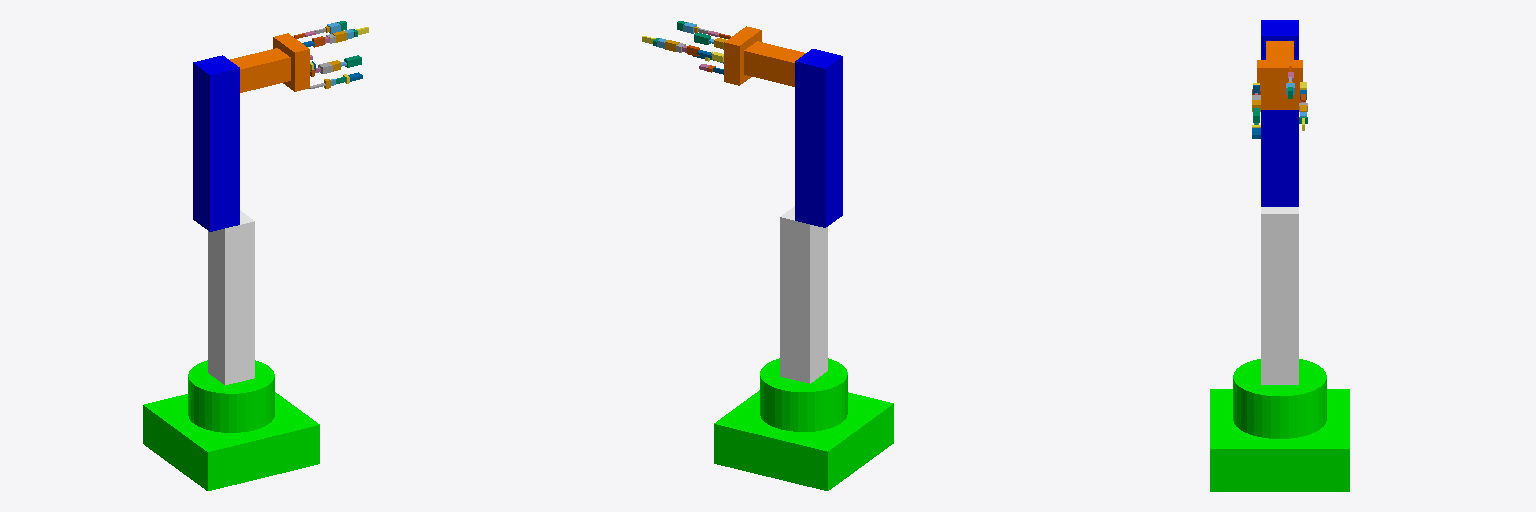
--- What the picture shows (computed from the rendered views, not written in the file) ---
The picture shows the robot from 3 angles, left to right: view 1: azimuth 30°, elevation 25°; view 2: azimuth 150°, elevation 25°; view 3: azimuth 270°, elevation 25°; orthographic projection.
Robot: robot — 37 links, 36 joints (33 revolute, 1 continuous, 2 fixed); root link base_link; default pose: all joints at 0.
Links seen in each view (by area): view 1: base_link, arm_link, support_link, wrist_link, palm_link; view 2: base_link, arm_link, support_link, wrist_link, palm_link; view 3: base_link, support_link, arm_link, palm_link, wrist_link.
Boxes of the visible links, bbox=[...] form: base_link: bbox=[143, 360, 319, 490]; arm_link: bbox=[193, 55, 239, 231]; support_link: bbox=[208, 210, 254, 384]; wrist_link: bbox=[230, 48, 290, 92]; palm_link: bbox=[273, 33, 309, 91]; base_link: bbox=[714, 358, 893, 490]; arm_link: bbox=[795, 49, 842, 227]; support_link: bbox=[780, 206, 827, 383]; wrist_link: bbox=[744, 41, 805, 86]; palm_link: bbox=[724, 26, 761, 85]; base_link: bbox=[1210, 359, 1349, 491]; support_link: bbox=[1261, 207, 1298, 384]; arm_link: bbox=[1261, 20, 1298, 206]; palm_link: bbox=[1257, 60, 1302, 109]; wrist_link: bbox=[1266, 41, 1293, 59].
Bounding box of the posed robot: 1.36 × 0.75 × 2.55 m (x, y, z).
Geometry: primitives only (box / cylinder / sphere), no mesh files.

robot.urdf — robot:
<?xml version='1.0' encoding='utf-8'?>
<robot name="robot">
  <link name="base_link">
    <visual>
      <origin xyz="0 0 0.125" rpy="0 0 0" />
      <geometry>
        <box size="0.75 0.75 0.25" />
      </geometry>
      <material name="green" />
    </visual>
    <visual>
      <origin xyz="0 0 0.375" rpy="0 0 0" />
      <geometry>
        <cylinder length="0.25" radius="0.25" />
      </geometry>
      <material name="green">
        <color rgba="0 1 0 1" />
      </material>
    </visual>
    <collision>
      <geometry>
        <box size="0.75 0.75 0.5" />
      </geometry>
    </collision>
    <inertial>
      <mass value="0.5" />
      <inertia ixx="0.034" ixy="0.0" ixz="0.0" iyy="0.034" iyz="0.0" izz="0.034" />
    </inertial>
  </link>
  <link name="support_link">
    <visual>
      <origin xyz="0 0 0.5" rpy="0 0 0" />
      <geometry>
        <box size="0.2 0.2 1" />
      </geometry>
      <material name="white">
        <color rgba="1 1 1 1" />
      </material>
    </visual>
    <collision>
      <geometry>
        <box size="0.2 0.2 1" />
      </geometry>
    </collision>
    <inertial>
      <mass value="0.1" />
      <inertia ixx="0.01" ixy="0.0" ixz="0.0" iyy="0.01" iyz="0.0" izz="0.01" />
    </inertial>
  </link>
  <joint name="support_joint" type="continuous">
    <origin xyz="0 0 0.5" rpy="0 0 0" />
    <parent link="base_link" />
    <child link="support_link" />
    <axis xyz="0 0 1" />
  </joint>
  <link name="arm_link">
    <visual>
      <origin xyz="0 0 0.5" rpy="0 0 0" />
      <geometry>
        <box size="0.2 0.2 1" />
      </geometry>
      <material name="blue">
        <color rgba="0 0 1 1" />
      </material>
    </visual>
    <collision>
      <geometry>
        <box size="0.2 0.2 1" />
      </geometry>
    </collision>
    <inertial>
      <mass value="0.1" />
      <inertia ixx="0.01" ixy="0.0" ixz="0.0" iyy="0.01" iyz="0.0" izz="0.01" />
    </inertial>
  </link>
  <joint name="arm_joint" type="revolute">
    <origin xyz="-0.1 0 1" rpy="0 0 0" />
    <parent link="support_link" />
    <child link="arm_link" />
    <axis xyz="0 1 0" />
    <limit lower="-3.14" upper="3.14" effort="1.0" velocity="1.0" />
  </joint>
  <link name="wrist_link">
    <visual>
      <origin xyz="0 0 0.25" rpy="0 0 0" />
      <geometry>
        <box size="0.15 0.15 0.5" />
      </geometry>
      <material name="orange">
        <color rgba="1 0.5 0 1" />
      </material>
    </visual>
    <collision>
      <geometry>
        <box size="0.15 0.15 0.5" />
      </geometry>
    </collision>
    <inertial>
      <mass value="0.1" />
      <inertia ixx="0.01" ixy="0.0" ixz="0.0" iyy="0.01" iyz="0.0" izz="0.01" />
    </inertial>
  </link>
  <joint name="wrist_joint" type="fixed">
    <origin xyz="0 0 0.9" rpy="0 1.571 0" />
    <parent link="arm_link" />
    <child link="wrist_link" />
  </joint>
  <link name="palm_link">
    <visual>
      <origin xyz="0 0 0.05" rpy="0 0 0" />
      <geometry>
        <box size="0.25 0.25 0.1" />
      </geometry>
      <material name="orange" />
    </visual>
    <collision>
      <geometry>
        <box size="0.25 0.25 0.1" />
      </geometry>
    </collision>
    <inertial>
      <mass value="0.1" />
      <inertia ixx="0.01" ixy="0.0" ixz="0.0" iyy="0.01" iyz="0.0" izz="0.01" />
    </inertial>
  </link>
  <joint name="palm_joint" type="fixed">
    <origin xyz="0 0 0.45" rpy="0 0 0" />
    <parent link="wrist_link" />
    <child link="palm_link" />
  </joint>
  <link name="finger_link_0_0">
    <visual>
      <origin xyz="0 0 0.012" rpy="0 0 0" />
      <geometry>
        <box size="0.042 0.047 0.024" />
      </geometry>
    </visual>
    <collision>
      <geometry>
        <box size="0.042 0.047 0.024" />
      </geometry>
    </collision>
    <inertial>
      <mass value="0.014" />
      <inertia ixx="0.0" iyy="0.0" izz="0.0" ixy="0" ixz="0" iyz="0" />
    </inertial>
  </link>
  <joint name="finger_joint_palm_link_to_finger_link_0_0" type="revolute">
    <origin xyz="0.022 -0.125 0.1" rpy="0 0 0" />
    <parent link="palm_link" />
    <child link="finger_link_0_0" />
    <axis xyz="1.0 0.0 0.0" />
    <limit lower="-3.142" upper="3.142" effort="10" velocity="10" />
  </joint>
  <link name="finger_link_0_1">
    <visual>
      <origin xyz="0 0 0.024" rpy="0 0 0" />
      <geometry>
        <box size="0.024 0.015 0.048" />
      </geometry>
    </visual>
    <collision>
      <geometry>
        <box size="0.024 0.015 0.048" />
      </geometry>
    </collision>
    <inertial>
      <mass value="0.005" />
      <inertia ixx="0.0" iyy="0.0" izz="0.0" ixy="0" ixz="0" iyz="0" />
    </inertial>
  </link>
  <joint name="finger_joint_finger_link_0_0_to_finger_link_0_1" type="revolute">
    <origin xyz="0.0 0.0 0.024" rpy="0 0 0" />
    <parent link="finger_link_0_0" />
    <child link="finger_link_0_1" />
    <axis xyz="1.0 0.0 0.0" />
    <limit lower="-3.142" upper="3.142" effort="10" velocity="10" />
  </joint>
  <link name="finger_link_0_2">
    <visual>
      <origin xyz="0 0 0.0325" rpy="0 0 0" />
      <geometry>
        <box size="0.043 0.05 0.065" />
      </geometry>
    </visual>
    <collision>
      <geometry>
        <box size="0.043 0.05 0.065" />
      </geometry>
    </collision>
    <inertial>
      <mass value="0.042" />
      <inertia ixx="0.0" iyy="0.0" izz="0.0" ixy="0" ixz="0" iyz="0" />
    </inertial>
  </link>
  <joint name="finger_joint_finger_link_0_1_to_finger_link_0_2" type="revolute">
    <origin xyz="0.0 0.0 0.048" rpy="0 0 0" />
    <parent link="finger_link_0_1" />
    <child link="finger_link_0_2" />
    <axis xyz="0.0 1.0 0.0" />
    <limit lower="-3.142" upper="3.142" effort="10" velocity="10" />
  </joint>
  <link name="finger_link_0_3">
    <visual>
      <origin xyz="0 0 0.0305" rpy="0 0 0" />
      <geometry>
        <box size="0.043 0.043 0.061" />
      </geometry>
    </visual>
    <collision>
      <geometry>
        <box size="0.043 0.043 0.061" />
      </geometry>
    </collision>
    <inertial>
      <mass value="0.034" />
      <inertia ixx="0.0" iyy="0.0" izz="0.0" ixy="0" ixz="0" iyz="0" />
    </inertial>
  </link>
  <joint name="finger_joint_finger_link_0_2_to_finger_link_0_3" type="revolute">
    <origin xyz="0.0 0.0 0.065" rpy="0 0 0" />
    <parent link="finger_link_0_2" />
    <child link="finger_link_0_3" />
    <axis xyz="1.0 0.0 0.0" />
    <limit lower="-3.142" upper="3.142" effort="10" velocity="10" />
  </joint>
  <link name="finger_link_0_4">
    <visual>
      <origin xyz="0 0 0.0215" rpy="0 0 0" />
      <geometry>
        <box size="0.012 0.032 0.043" />
      </geometry>
    </visual>
    <collision>
      <geometry>
        <box size="0.012 0.032 0.043" />
      </geometry>
    </collision>
    <inertial>
      <mass value="0.005" />
      <inertia ixx="0.0" iyy="0.0" izz="0.0" ixy="0" ixz="0" iyz="0" />
    </inertial>
  </link>
  <joint name="finger_joint_finger_link_0_3_to_finger_link_0_4" type="revolute">
    <origin xyz="0.0 0.0 0.061" rpy="0 0 0" />
    <parent link="finger_link_0_3" />
    <child link="finger_link_0_4" />
    <axis xyz="0.0 1.0 0.0" />
    <limit lower="-3.142" upper="3.142" effort="10" velocity="10" />
  </joint>
  <link name="finger_link_0_5">
    <visual>
      <origin xyz="0 0 0.047" rpy="0 0 0" />
      <geometry>
        <box size="0.045 0.039 0.094" />
      </geometry>
    </visual>
    <collision>
      <geometry>
        <box size="0.045 0.039 0.094" />
      </geometry>
    </collision>
    <inertial>
      <mass value="0.049" />
      <inertia ixx="0.0" iyy="0.0" izz="0.0" ixy="0" ixz="0" iyz="0" />
    </inertial>
  </link>
  <joint name="finger_joint_finger_link_0_4_to_finger_link_0_5" type="revolute">
    <origin xyz="0.0 0.0 0.043" rpy="0 0 0" />
    <parent link="finger_link_0_4" />
    <child link="finger_link_0_5" />
    <axis xyz="0.0 1.0 0.0" />
    <limit lower="-3.142" upper="3.142" effort="10" velocity="10" />
  </joint>
  <link name="finger_link_1_0">
    <visual>
      <origin xyz="0 0 0.0365" rpy="0 0 0" />
      <geometry>
        <box size="0.038 0.033 0.073" />
      </geometry>
    </visual>
    <collision>
      <geometry>
        <box size="0.038 0.033 0.073" />
      </geometry>
    </collision>
    <inertial>
      <mass value="0.027" />
      <inertia ixx="0.0" iyy="0.0" izz="0.0" ixy="0" ixz="0" iyz="0" />
    </inertial>
  </link>
  <joint name="finger_joint_palm_link_to_finger_link_1_0" type="revolute">
    <origin xyz="-0.023 0.125 0.1" rpy="0 0 0" />
    <parent link="palm_link" />
    <child link="finger_link_1_0" />
    <axis xyz="-1.0 0.0 0.0" />
    <limit lower="-3.142" upper="3.142" effort="10" velocity="10" />
  </joint>
  <link name="finger_link_1_1">
    <visual>
      <origin xyz="0 0 0.0475" rpy="0 0 0" />
      <geometry>
        <box size="0.017 0.036 0.095" />
      </geometry>
    </visual>
    <collision>
      <geometry>
        <box size="0.017 0.036 0.095" />
      </geometry>
    </collision>
    <inertial>
      <mass value="0.017" />
      <inertia ixx="0.0" iyy="0.0" izz="0.0" ixy="0" ixz="0" iyz="0" />
    </inertial>
  </link>
  <joint name="finger_joint_finger_link_1_0_to_finger_link_1_1" type="revolute">
    <origin xyz="0.0 0.0 0.073" rpy="0 0 0" />
    <parent link="finger_link_1_0" />
    <child link="finger_link_1_1" />
    <axis xyz="1.0 1.0 0.0" />
    <limit lower="-3.142" upper="3.142" effort="10" velocity="10" />
  </joint>
  <link name="finger_link_1_2">
    <visual>
      <origin xyz="0 0 0.0345" rpy="0 0 0" />
      <geometry>
        <box size="0.048 0.025 0.069" />
      </geometry>
    </visual>
    <collision>
      <geometry>
        <box size="0.048 0.025 0.069" />
      </geometry>
    </collision>
    <inertial>
      <mass value="0.025" />
      <inertia ixx="0.0" iyy="0.0" izz="0.0" ixy="0" ixz="0" iyz="0" />
    </inertial>
  </link>
  <joint name="finger_joint_finger_link_1_1_to_finger_link_1_2" type="revolute">
    <origin xyz="0.0 0.0 0.095" rpy="0 0 0" />
    <parent link="finger_link_1_1" />
    <child link="finger_link_1_2" />
    <axis xyz="0.0 1.0 0.0" />
    <limit lower="-3.142" upper="3.142" effort="10" velocity="10" />
  </joint>
  <link name="finger_link_1_3">
    <visual>
      <origin xyz="0 0 0.0155" rpy="0 0 0" />
      <geometry>
        <box size="0.029 0.029 0.031" />
      </geometry>
    </visual>
    <collision>
      <geometry>
        <box size="0.029 0.029 0.031" />
      </geometry>
    </collision>
    <inertial>
      <mass value="0.008" />
      <inertia ixx="0.0" iyy="0.0" izz="0.0" ixy="0" ixz="0" iyz="0" />
    </inertial>
  </link>
  <joint name="finger_joint_finger_link_1_2_to_finger_link_1_3" type="revolute">
    <origin xyz="0.0 0.0 0.069" rpy="0 0 0" />
    <parent link="finger_link_1_2" />
    <child link="finger_link_1_3" />
    <axis xyz="0.0 1.0 0.0" />
    <limit lower="-3.142" upper="3.142" effort="10" velocity="10" />
  </joint>
  <link name="finger_link_1_4">
    <visual>
      <origin xyz="0 0 0.018" rpy="0 0 0" />
      <geometry>
        <box size="0.037 0.047 0.036" />
      </geometry>
    </visual>
    <collision>
      <geometry>
        <box size="0.037 0.047 0.036" />
      </geometry>
    </collision>
    <inertial>
      <mass value="0.019" />
      <inertia ixx="0.0" iyy="0.0" izz="0.0" ixy="0" ixz="0" iyz="0" />
    </inertial>
  </link>
  <joint name="finger_joint_finger_link_1_3_to_finger_link_1_4" type="revolute">
    <origin xyz="0.0 0.0 0.031" rpy="0 0 0" />
    <parent link="finger_link_1_3" />
    <child link="finger_link_1_4" />
    <axis xyz="1.0 0.0 0.0" />
    <limit lower="-3.142" upper="3.142" effort="10" velocity="10" />
  </joint>
  <link name="finger_link_1_5">
    <visual>
      <origin xyz="0 0 0.038" rpy="0 0 0" />
      <geometry>
        <box size="0.048 0.036 0.076" />
      </geometry>
    </visual>
    <collision>
      <geometry>
        <box size="0.048 0.036 0.076" />
      </geometry>
    </collision>
    <inertial>
      <mass value="0.039" />
      <inertia ixx="0.0" iyy="0.0" izz="0.0" ixy="0" ixz="0" iyz="0" />
    </inertial>
  </link>
  <joint name="finger_joint_finger_link_1_4_to_finger_link_1_5" type="revolute">
    <origin xyz="0.0 0.0 0.036" rpy="0 0 0" />
    <parent link="finger_link_1_4" />
    <child link="finger_link_1_5" />
    <axis xyz="0.0 1.0 0.0" />
    <limit lower="-3.142" upper="3.142" effort="10" velocity="10" />
  </joint>
  <link name="finger_link_1_6">
    <visual>
      <origin xyz="0 0 0.0245" rpy="0 0 0" />
      <geometry>
        <box size="0.04 0.041 0.049" />
      </geometry>
    </visual>
    <collision>
      <geometry>
        <box size="0.04 0.041 0.049" />
      </geometry>
    </collision>
    <inertial>
      <mass value="0.024" />
      <inertia ixx="0.0" iyy="0.0" izz="0.0" ixy="0" ixz="0" iyz="0" />
    </inertial>
  </link>
  <joint name="finger_joint_finger_link_1_5_to_finger_link_1_6" type="revolute">
    <origin xyz="0.0 0.0 0.076" rpy="0 0 0" />
    <parent link="finger_link_1_5" />
    <child link="finger_link_1_6" />
    <axis xyz="0.0 1.0 0.0" />
    <limit lower="-3.142" upper="3.142" effort="10" velocity="10" />
  </joint>
  <link name="finger_link_1_7">
    <visual>
      <origin xyz="0 0 0.0125" rpy="0 0 0" />
      <geometry>
        <box size="0.032 0.048 0.025" />
      </geometry>
    </visual>
    <collision>
      <geometry>
        <box size="0.032 0.048 0.025" />
      </geometry>
    </collision>
    <inertial>
      <mass value="0.012" />
      <inertia ixx="0.0" iyy="0.0" izz="0.0" ixy="0" ixz="0" iyz="0" />
    </inertial>
  </link>
  <joint name="finger_joint_finger_link_1_6_to_finger_link_1_7" type="revolute">
    <origin xyz="0.0 0.0 0.049" rpy="0 0 0" />
    <parent link="finger_link_1_6" />
    <child link="finger_link_1_7" />
    <axis xyz="0.0 1.0 0.0" />
    <limit lower="-3.142" upper="3.142" effort="10" velocity="10" />
  </joint>
  <link name="finger_link_1_8">
    <visual>
      <origin xyz="0 0 0.041" rpy="0 0 0" />
      <geometry>
        <box size="0.034 0.014 0.082" />
      </geometry>
    </visual>
    <collision>
      <geometry>
        <box size="0.034 0.014 0.082" />
      </geometry>
    </collision>
    <inertial>
      <mass value="0.012" />
      <inertia ixx="0.0" iyy="0.0" izz="0.0" ixy="0" ixz="0" iyz="0" />
    </inertial>
  </link>
  <joint name="finger_joint_finger_link_1_7_to_finger_link_1_8" type="revolute">
    <origin xyz="0.0 0.0 0.025" rpy="0 0 0" />
    <parent link="finger_link_1_7" />
    <child link="finger_link_1_8" />
    <axis xyz="1.0 0.0 0.0" />
    <limit lower="-3.142" upper="3.142" effort="10" velocity="10" />
  </joint>
  <link name="finger_link_2_0">
    <visual>
      <origin xyz="0 0 0.0345" rpy="0 0 0" />
      <geometry>
        <box size="0.027 0.011 0.069" />
      </geometry>
    </visual>
    <collision>
      <geometry>
        <box size="0.027 0.011 0.069" />
      </geometry>
    </collision>
    <inertial>
      <mass value="0.006" />
      <inertia ixx="0.0" iyy="0.0" izz="0.0" ixy="0" ixz="0" iyz="0" />
    </inertial>
  </link>
  <joint name="finger_joint_palm_link_to_finger_link_2_0" type="revolute">
    <origin xyz="0.062 0.125 0.1" rpy="0 0 0" />
    <parent link="palm_link" />
    <child link="finger_link_2_0" />
    <axis xyz="-1.0 0.0 0.0" />
    <limit lower="-3.142" upper="3.142" effort="10" velocity="10" />
  </joint>
  <link name="finger_link_2_1">
    <visual>
      <origin xyz="0 0 0.016" rpy="0 0 0" />
      <geometry>
        <box size="0.023 0.044 0.032" />
      </geometry>
    </visual>
    <collision>
      <geometry>
        <box size="0.023 0.044 0.032" />
      </geometry>
    </collision>
    <inertial>
      <mass value="0.01" />
      <inertia ixx="0.0" iyy="0.0" izz="0.0" ixy="0" ixz="0" iyz="0" />
    </inertial>
  </link>
  <joint name="finger_joint_finger_link_2_0_to_finger_link_2_1" type="revolute">
    <origin xyz="0.0 0.0 0.069" rpy="0 0 0" />
    <parent link="finger_link_2_0" />
    <child link="finger_link_2_1" />
    <axis xyz="0.0 1.0 0.0" />
    <limit lower="-3.142" upper="3.142" effort="10" velocity="10" />
  </joint>
  <link name="finger_link_2_2">
    <visual>
      <origin xyz="0 0 0.0265" rpy="0 0 0" />
      <geometry>
        <box size="0.021 0.038 0.053" />
      </geometry>
    </visual>
    <collision>
      <geometry>
        <box size="0.021 0.038 0.053" />
      </geometry>
    </collision>
    <inertial>
      <mass value="0.013" />
      <inertia ixx="0.0" iyy="0.0" izz="0.0" ixy="0" ixz="0" iyz="0" />
    </inertial>
  </link>
  <joint name="finger_joint_finger_link_2_1_to_finger_link_2_2" type="revolute">
    <origin xyz="0.0 0.0 0.032" rpy="0 0 0" />
    <parent link="finger_link_2_1" />
    <child link="finger_link_2_2" />
    <axis xyz="1.0 0.0 0.0" />
    <limit lower="-3.142" upper="3.142" effort="10" velocity="10" />
  </joint>
  <link name="finger_link_3_0">
    <visual>
      <origin xyz="0 0 0.05" rpy="0 0 0" />
      <geometry>
        <box size="0.01 0.023 0.1" />
      </geometry>
    </visual>
    <collision>
      <geometry>
        <box size="0.01 0.023 0.1" />
      </geometry>
    </collision>
    <inertial>
      <mass value="0.007" />
      <inertia ixx="0.0" iyy="0.0" izz="0.0" ixy="0" ixz="0" iyz="0" />
    </inertial>
  </link>
  <joint name="finger_joint_palm_link_to_finger_link_3_0" type="revolute">
    <origin xyz="0.123 -0.125 0.1" rpy="0 0 0" />
    <parent link="palm_link" />
    <child link="finger_link_3_0" />
    <axis xyz="1.0 0.0 0.0" />
    <limit lower="-3.142" upper="3.142" effort="10" velocity="10" />
  </joint>
  <link name="finger_link_3_1">
    <visual>
      <origin xyz="0 0 0.0155" rpy="0 0 0" />
      <geometry>
        <box size="0.05 0.027 0.031" />
      </geometry>
    </visual>
    <collision>
      <geometry>
        <box size="0.05 0.027 0.031" />
      </geometry>
    </collision>
    <inertial>
      <mass value="0.013" />
      <inertia ixx="0.0" iyy="0.0" izz="0.0" ixy="0" ixz="0" iyz="0" />
    </inertial>
  </link>
  <joint name="finger_joint_finger_link_3_0_to_finger_link_3_1" type="revolute">
    <origin xyz="0.0 0.0 0.1" rpy="0 0 0" />
    <parent link="finger_link_3_0" />
    <child link="finger_link_3_1" />
    <axis xyz="0.0 1.0 0.0" />
    <limit lower="-3.142" upper="3.142" effort="10" velocity="10" />
  </joint>
  <link name="finger_link_3_2">
    <visual>
      <origin xyz="0 0 0.019" rpy="0 0 0" />
      <geometry>
        <box size="0.035 0.016 0.038" />
      </geometry>
    </visual>
    <collision>
      <geometry>
        <box size="0.035 0.016 0.038" />
      </geometry>
    </collision>
    <inertial>
      <mass value="0.006" />
      <inertia ixx="0.0" iyy="0.0" izz="0.0" ixy="0" ixz="0" iyz="0" />
    </inertial>
  </link>
  <joint name="finger_joint_finger_link_3_1_to_finger_link_3_2" type="revolute">
    <origin xyz="0.0 0.0 0.031" rpy="0 0 0" />
    <parent link="finger_link_3_1" />
    <child link="finger_link_3_2" />
    <axis xyz="0.0 1.0 0.0" />
    <limit lower="-3.142" upper="3.142" effort="10" velocity="10" />
  </joint>
  <link name="finger_link_3_3">
    <visual>
      <origin xyz="0 0 0.033" rpy="0 0 0" />
      <geometry>
        <box size="0.031 0.011 0.066" />
      </geometry>
    </visual>
    <collision>
      <geometry>
        <box size="0.031 0.011 0.066" />
      </geometry>
    </collision>
    <inertial>
      <mass value="0.007" />
      <inertia ixx="0.0" iyy="0.0" izz="0.0" ixy="0" ixz="0" iyz="0" />
    </inertial>
  </link>
  <joint name="finger_joint_finger_link_3_2_to_finger_link_3_3" type="revolute">
    <origin xyz="0.0 0.0 0.038" rpy="0 0 0" />
    <parent link="finger_link_3_2" />
    <child link="finger_link_3_3" />
    <axis xyz="0.0 1.0 0.0" />
    <limit lower="-3.142" upper="3.142" effort="10" velocity="10" />
  </joint>
  <link name="finger_link_3_4">
    <visual>
      <origin xyz="0 0 0.01" rpy="0 0 0" />
      <geometry>
        <box size="0.04 0.046 0.02" />
      </geometry>
    </visual>
    <collision>
      <geometry>
        <box size="0.04 0.046 0.02" />
      </geometry>
    </collision>
    <inertial>
      <mass value="0.011" />
      <inertia ixx="0.0" iyy="0.0" izz="0.0" ixy="0" ixz="0" iyz="0" />
    </inertial>
  </link>
  <joint name="finger_joint_finger_link_3_3_to_finger_link_3_4" type="revolute">
    <origin xyz="0.0 0.0 0.066" rpy="0 0 0" />
    <parent link="finger_link_3_3" />
    <child link="finger_link_3_4" />
    <axis xyz="1.0 1.0 0.0" />
    <limit lower="-3.142" upper="3.142" effort="10" velocity="10" />
  </joint>
  <link name="finger_link_3_5">
    <visual>
      <origin xyz="0 0 0.042" rpy="0 0 0" />
      <geometry>
        <box size="0.023 0.045 0.084" />
      </geometry>
    </visual>
    <collision>
      <geometry>
        <box size="0.023 0.045 0.084" />
      </geometry>
    </collision>
    <inertial>
      <mass value="0.026" />
      <inertia ixx="0.0" iyy="0.0" izz="0.0" ixy="0" ixz="0" iyz="0" />
    </inertial>
  </link>
  <joint name="finger_joint_finger_link_3_4_to_finger_link_3_5" type="revolute">
    <origin xyz="0.0 0.0 0.02" rpy="0 0 0" />
    <parent link="finger_link_3_4" />
    <child link="finger_link_3_5" />
    <axis xyz="0.0 1.0 0.0" />
    <limit lower="-3.142" upper="3.142" effort="10" velocity="10" />
  </joint>
  <link name="finger_link_4_0">
    <visual>
      <origin xyz="0 0 0.035" rpy="0 0 0" />
      <geometry>
        <box size="0.02 0.013 0.07" />
      </geometry>
    </visual>
    <collision>
      <geometry>
        <box size="0.02 0.013 0.07" />
      </geometry>
    </collision>
    <inertial>
      <mass value="0.005" />
      <inertia ixx="0.0" iyy="0.0" izz="0.0" ixy="0" ixz="0" iyz="0" />
    </inertial>
  </link>
  <joint name="finger_joint_palm_link_to_finger_link_4_0" type="revolute">
    <origin xyz="-0.125 0.056 0.1" rpy="0 0 0" />
    <parent link="palm_link" />
    <child link="finger_link_4_0" />
    <axis xyz="0.0 -1.0 0.0" />
    <limit lower="-3.142" upper="3.142" effort="10" velocity="10" />
  </joint>
  <link name="finger_link_4_1">
    <visual>
      <origin xyz="0 0 0.0345" rpy="0 0 0" />
      <geometry>
        <box size="0.012 0.032 0.069" />
      </geometry>
    </visual>
    <collision>
      <geometry>
        <box size="0.012 0.032 0.069" />
      </geometry>
    </collision>
    <inertial>
      <mass value="0.008" />
      <inertia ixx="0.0" iyy="0.0" izz="0.0" ixy="0" ixz="0" iyz="0" />
    </inertial>
  </link>
  <joint name="finger_joint_finger_link_4_0_to_finger_link_4_1" type="revolute">
    <origin xyz="0.0 0.0 0.07" rpy="0 0 0" />
    <parent link="finger_link_4_0" />
    <child link="finger_link_4_1" />
    <axis xyz="1.0 0.0 0.0" />
    <limit lower="-3.142" upper="3.142" effort="10" velocity="10" />
  </joint>
  <link name="finger_link_4_2">
    <visual>
      <origin xyz="0 0 0.036" rpy="0 0 0" />
      <geometry>
        <box size="0.02 0.014 0.072" />
      </geometry>
    </visual>
    <collision>
      <geometry>
        <box size="0.02 0.014 0.072" />
      </geometry>
    </collision>
    <inertial>
      <mass value="0.006" />
      <inertia ixx="0.0" iyy="0.0" izz="0.0" ixy="0" ixz="0" iyz="0" />
    </inertial>
  </link>
  <joint name="finger_joint_finger_link_4_1_to_finger_link_4_2" type="revolute">
    <origin xyz="0.0 0.0 0.069" rpy="0 0 0" />
    <parent link="finger_link_4_1" />
    <child link="finger_link_4_2" />
    <axis xyz="0.0 1.0 0.0" />
    <limit lower="-3.142" upper="3.142" effort="10" velocity="10" />
  </joint>
  <link name="finger_link_4_3">
    <visual>
      <origin xyz="0 0 0.01" rpy="0 0 0" />
      <geometry>
        <box size="0.029 0.023 0.02" />
      </geometry>
    </visual>
    <collision>
      <geometry>
        <box size="0.029 0.023 0.02" />
      </geometry>
    </collision>
    <inertial>
      <mass value="0.004" />
      <inertia ixx="0.0" iyy="0.0" izz="0.0" ixy="0" ixz="0" iyz="0" />
    </inertial>
  </link>
  <joint name="finger_joint_finger_link_4_2_to_finger_link_4_3" type="revolute">
    <origin xyz="0.0 0.0 0.072" rpy="0 0 0" />
    <parent link="finger_link_4_2" />
    <child link="finger_link_4_3" />
    <axis xyz="1.0 0.0 0.0" />
    <limit lower="-3.142" upper="3.142" effort="10" velocity="10" />
  </joint>
  <link name="finger_link_4_4">
    <visual>
      <origin xyz="0 0 0.0325" rpy="0 0 0" />
      <geometry>
        <box size="0.042 0.045 0.065" />
      </geometry>
    </visual>
    <collision>
      <geometry>
        <box size="0.042 0.045 0.065" />
      </geometry>
    </collision>
    <inertial>
      <mass value="0.037" />
      <inertia ixx="0.0" iyy="0.0" izz="0.0" ixy="0" ixz="0" iyz="0" />
    </inertial>
  </link>
  <joint name="finger_joint_finger_link_4_3_to_finger_link_4_4" type="revolute">
    <origin xyz="0.0 0.0 0.02" rpy="0 0 0" />
    <parent link="finger_link_4_3" />
    <child link="finger_link_4_4" />
    <axis xyz="0.0 1.0 0.0" />
    <limit lower="-3.142" upper="3.142" effort="10" velocity="10" />
  </joint>
  <link name="finger_link_4_5">
    <visual>
      <origin xyz="0 0 0.0235" rpy="0 0 0" />
      <geometry>
        <box size="0.047 0.028 0.047" />
      </geometry>
    </visual>
    <collision>
      <geometry>
        <box size="0.047 0.028 0.047" />
      </geometry>
    </collision>
    <inertial>
      <mass value="0.019" />
      <inertia ixx="0.0" iyy="0.0" izz="0.0" ixy="0" ixz="0" iyz="0" />
    </inertial>
  </link>
  <joint name="finger_joint_finger_link_4_4_to_finger_link_4_5" type="revolute">
    <origin xyz="0.0 0.0 0.065" rpy="0 0 0" />
    <parent link="finger_link_4_4" />
    <child link="finger_link_4_5" />
    <axis xyz="1.0 0.0 0.0" />
    <limit lower="-3.142" upper="3.142" effort="10" velocity="10" />
  </joint>
  <link name="finger_link_5_0">
    <visual>
      <origin xyz="0 0 0.0085" rpy="0 0 0" />
      <geometry>
        <box size="0.049 0.042 0.017" />
      </geometry>
    </visual>
    <collision>
      <geometry>
        <box size="0.049 0.042 0.017" />
      </geometry>
    </collision>
    <inertial>
      <mass value="0.01" />
      <inertia ixx="0.0" iyy="0.0" izz="0.0" ixy="0" ixz="0" iyz="0" />
    </inertial>
  </link>
  <joint name="finger_joint_palm_link_to_finger_link_5_0" type="revolute">
    <origin xyz="-0.009 -0.125 0.1" rpy="0 0 0" />
    <parent link="palm_link" />
    <child link="finger_link_5_0" />
    <axis xyz="1.0 0.0 0.0" />
    <limit lower="-3.142" upper="3.142" effort="10" velocity="10" />
  </joint>
  <link name="finger_link_5_1">
    <visual>
      <origin xyz="0 0 0.006" rpy="0 0 0" />
      <geometry>
        <box size="0.045 0.04 0.012" />
      </geometry>
    </visual>
    <collision>
      <geometry>
        <box size="0.045 0.04 0.012" />
      </geometry>
    </collision>
    <inertial>
      <mass value="0.006" />
      <inertia ixx="0.0" iyy="0.0" izz="0.0" ixy="0" ixz="0" iyz="0" />
    </inertial>
  </link>
  <joint name="finger_joint_finger_link_5_0_to_finger_link_5_1" type="revolute">
    <origin xyz="0.0 0.0 0.017" rpy="0 0 0" />
    <parent link="finger_link_5_0" />
    <child link="finger_link_5_1" />
    <axis xyz="1.0 0.0 0.0" />
    <limit lower="-3.142" upper="3.142" effort="10" velocity="10" />
  </joint>
</robot>
